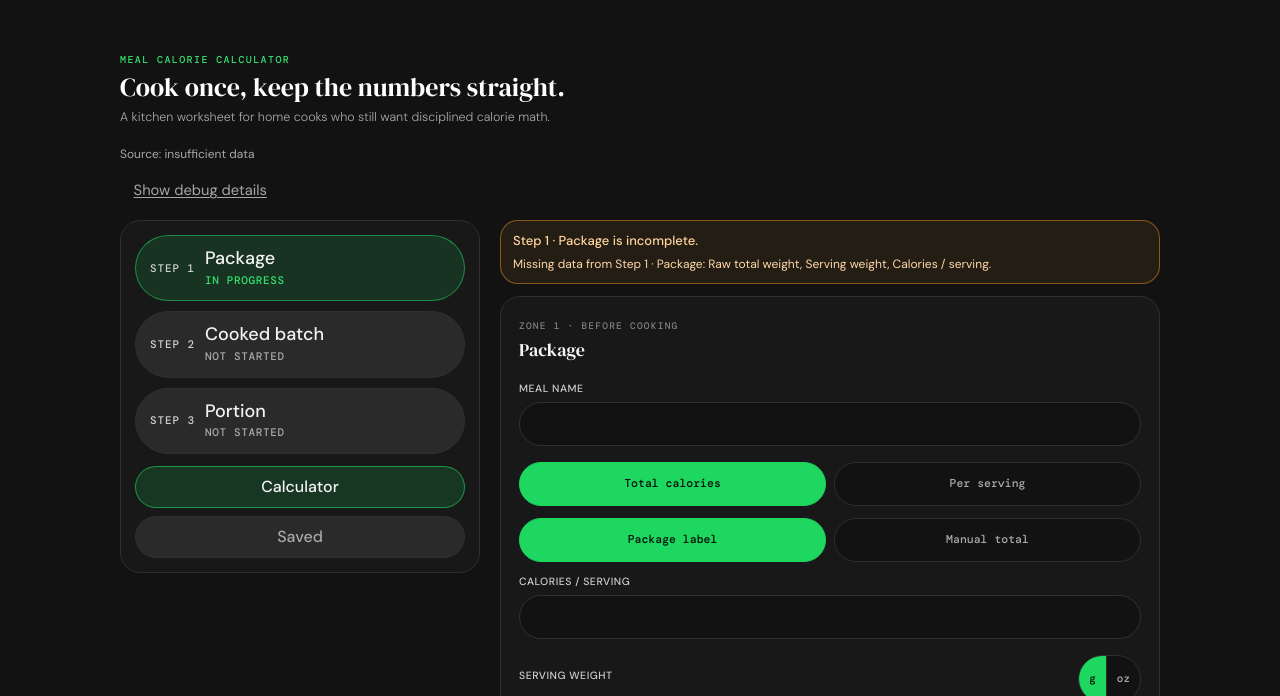
App zone layout migration › renders the new zone layout markers and saved meals region
Click the button "Step 2 Cooked batch Not started": (300, 344) left=135, top=311, right=465, bottom=378
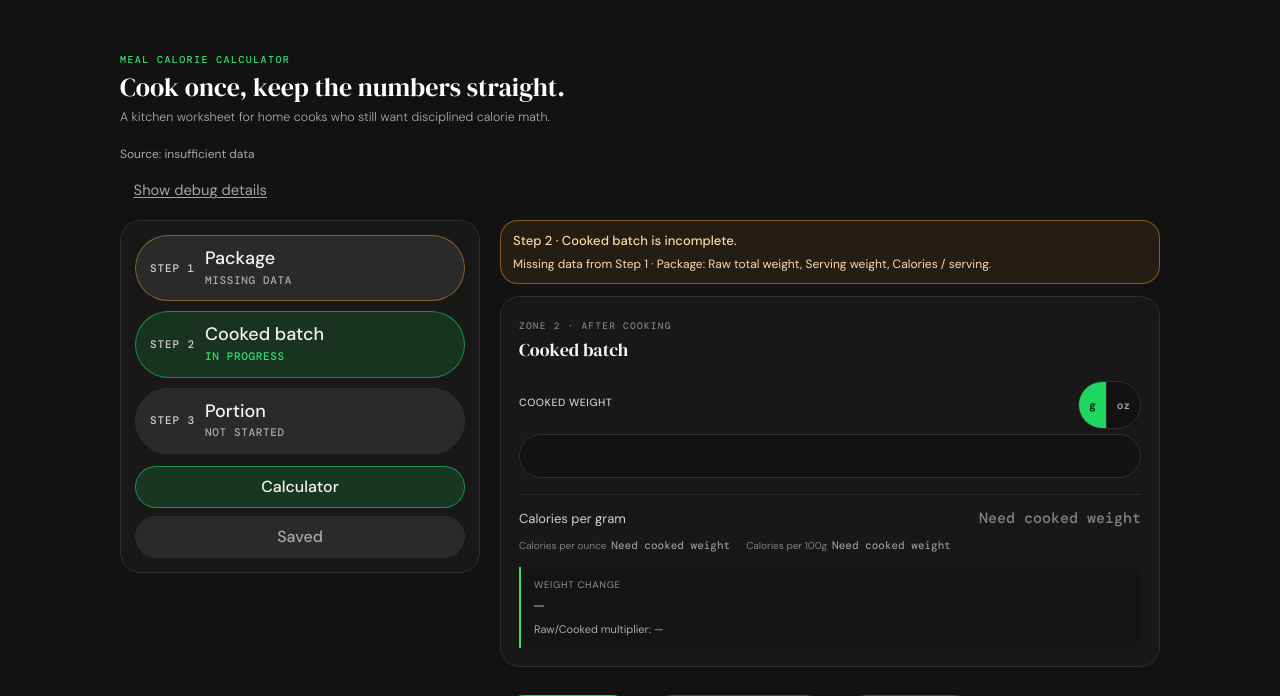
Now the element with test id "zone-cooked" is shown, box left=500, top=296, right=1160, bottom=667
Click the button "Step 3 Portion Not started": (172, 420) left=135, top=388, right=465, bottom=454
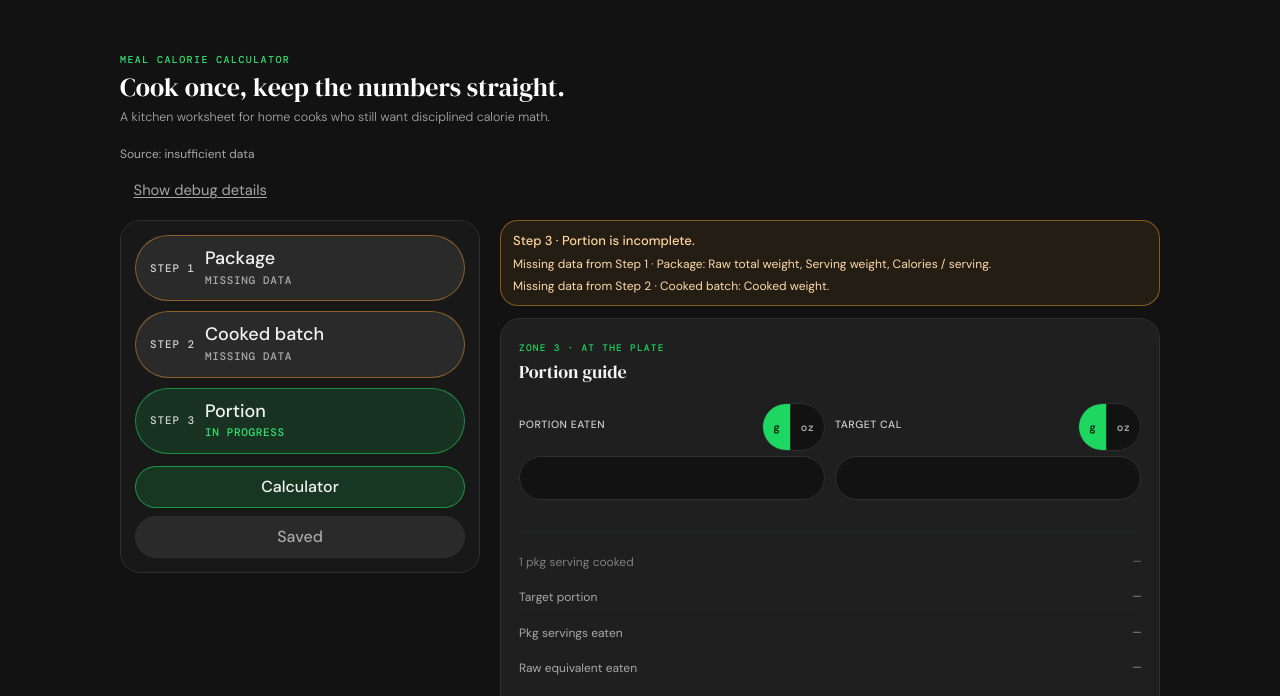
Click the button "Saved": (300, 537) left=135, top=516, right=465, bottom=558
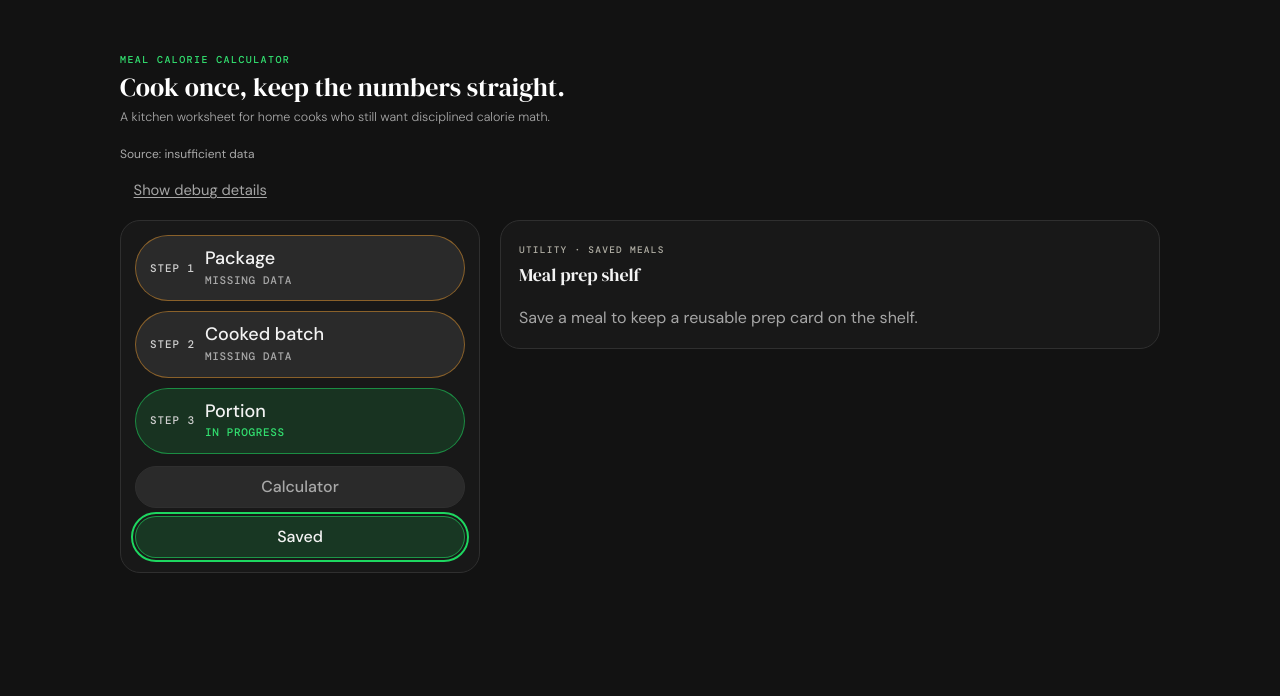
Now the element with test id "saved-meals-region" is shown, box left=500, top=220, right=1160, bottom=349
